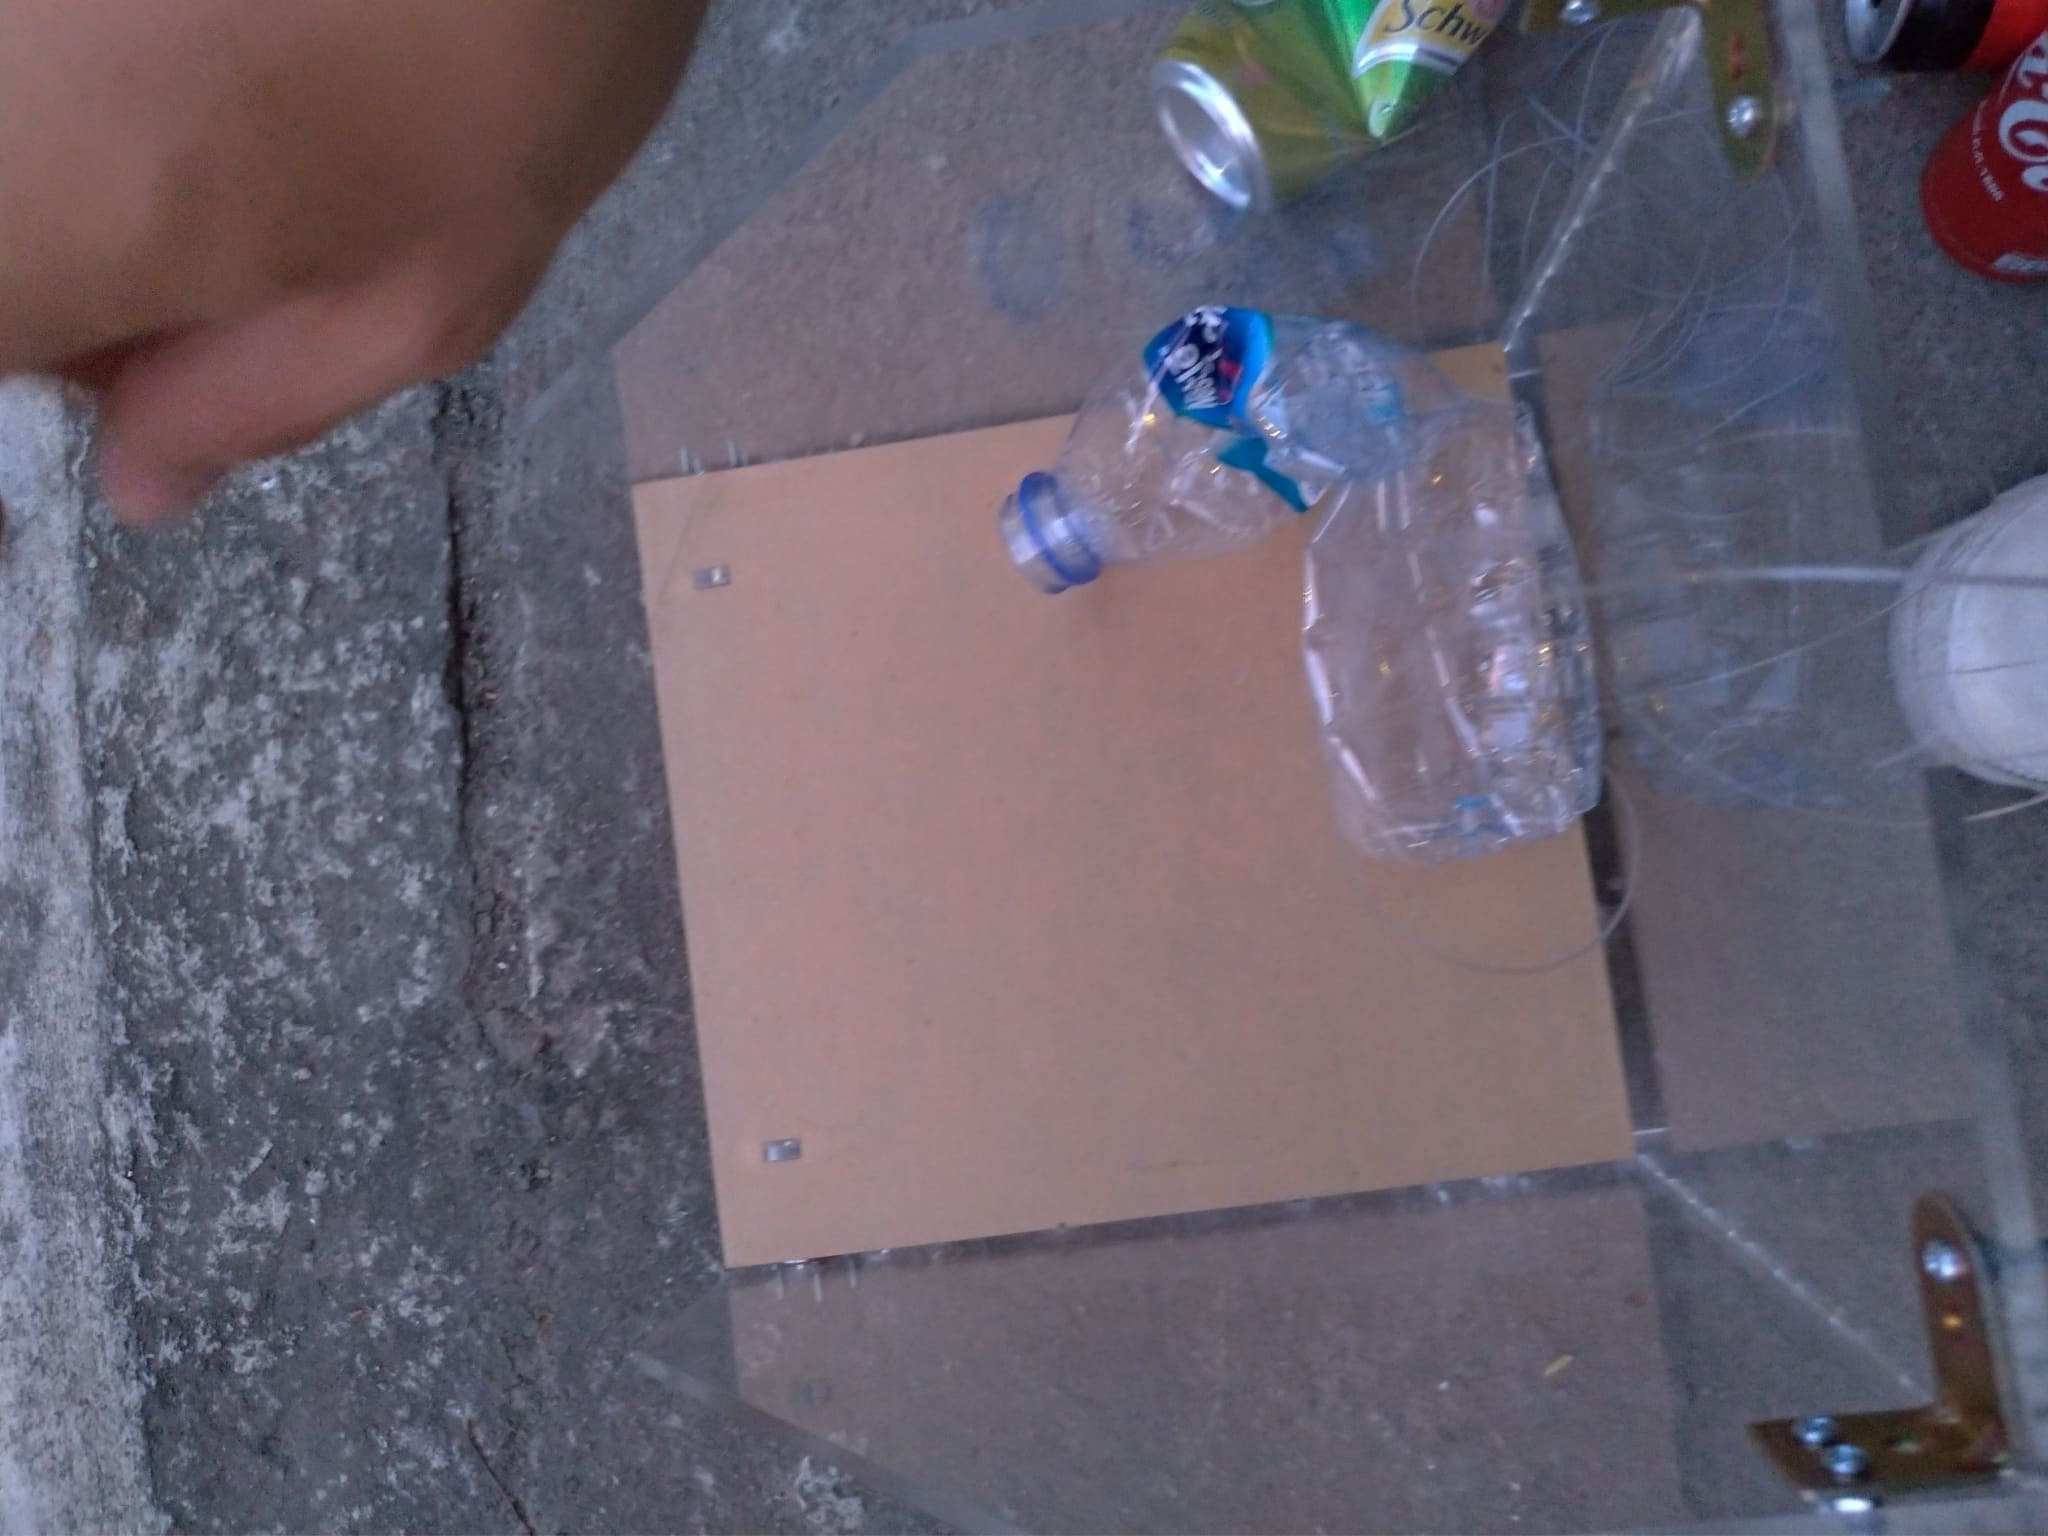AlCan: (1143, 2, 1526, 211), (1921, 34, 2048, 286)
PlasticBottle: (998, 303, 1600, 863)
